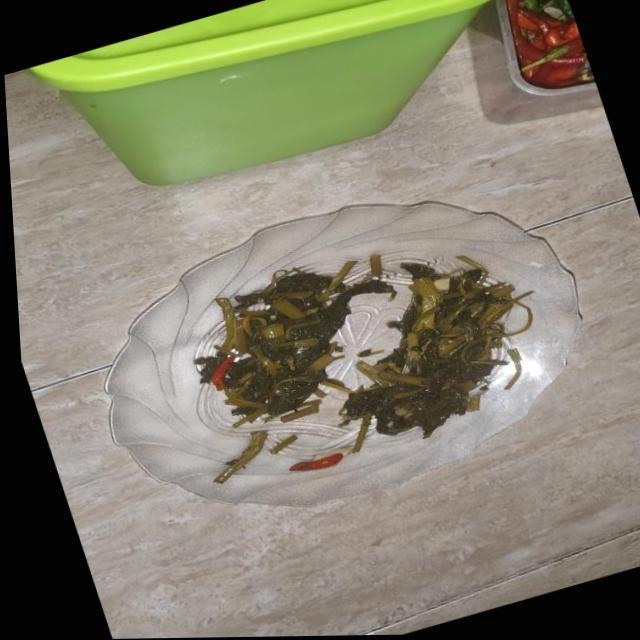tumis_kangkung: (195, 260, 396, 427), (343, 267, 532, 437)
